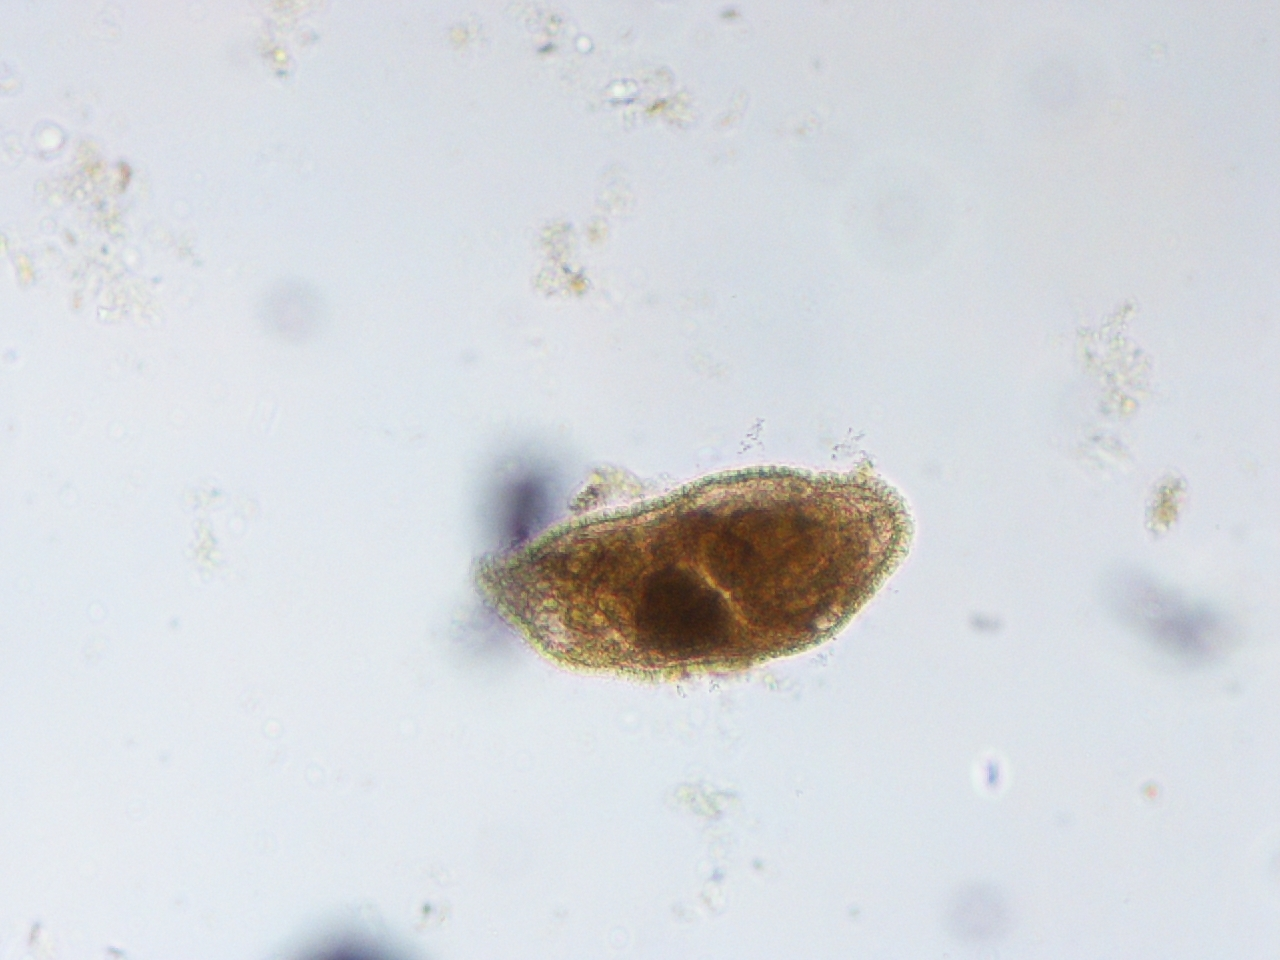turbellarians: (475, 464, 914, 677)
